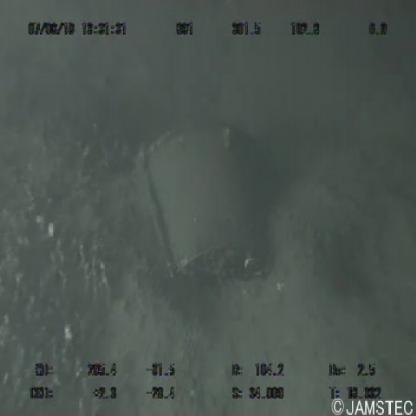Rác: (128, 114, 283, 295)
